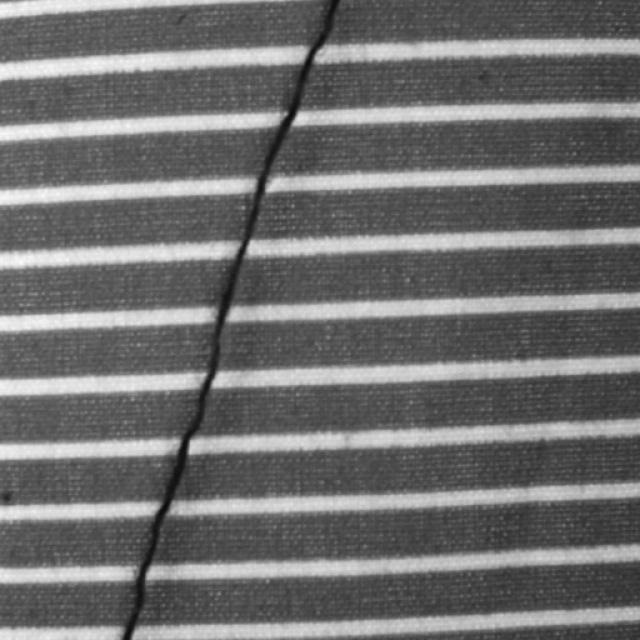Foreign-Body-Defect: (121, 0, 339, 639)
